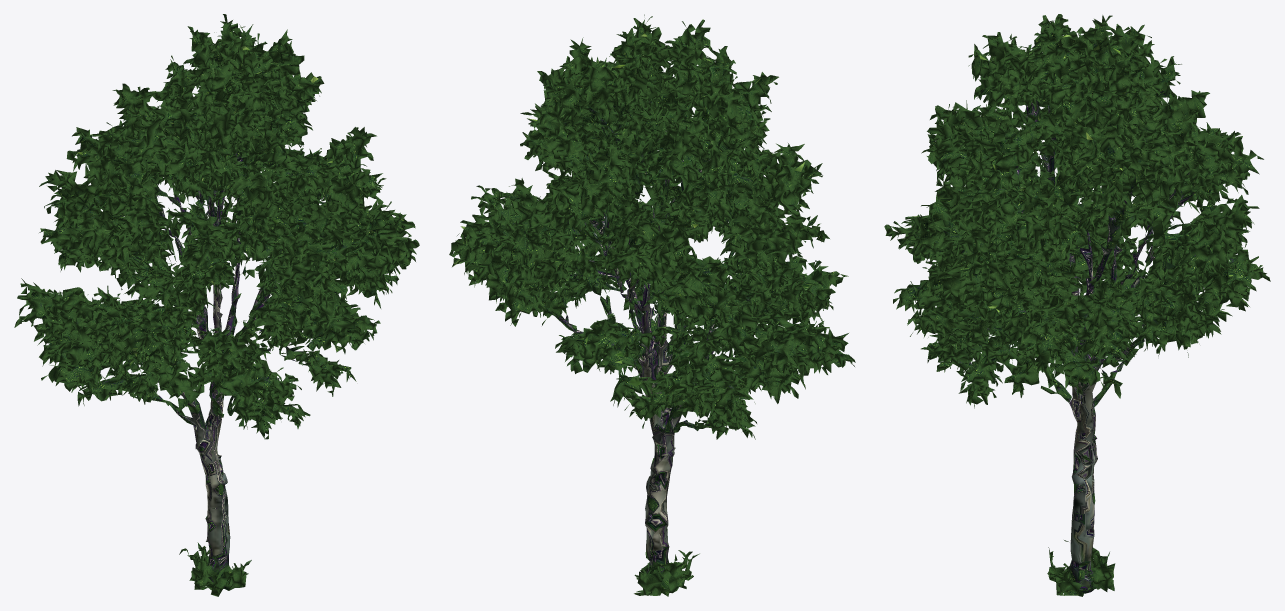
The model's file is birch_mid.glb.
The picture shows the model from 3 angles, left to right: view 1: azimuth 30°, elevation 25°; view 2: azimuth 150°, elevation 25°; view 3: azimuth 270°, elevation 25°; orthographic projection. The views are drawn at different scales.
Parts seen in each view (by area): view 1: mesh_node; view 2: mesh_node; view 3: mesh_node.
Part boxes in pixels (x1,y1,x2,y2): mesh_node: [14, 14, 419, 596]; mesh_node: [449, 14, 855, 596]; mesh_node: [884, 14, 1270, 596].
Bounding box in the file's own units: 1.36 × 1.9 × 1.14.
1 material, 1 textured.
